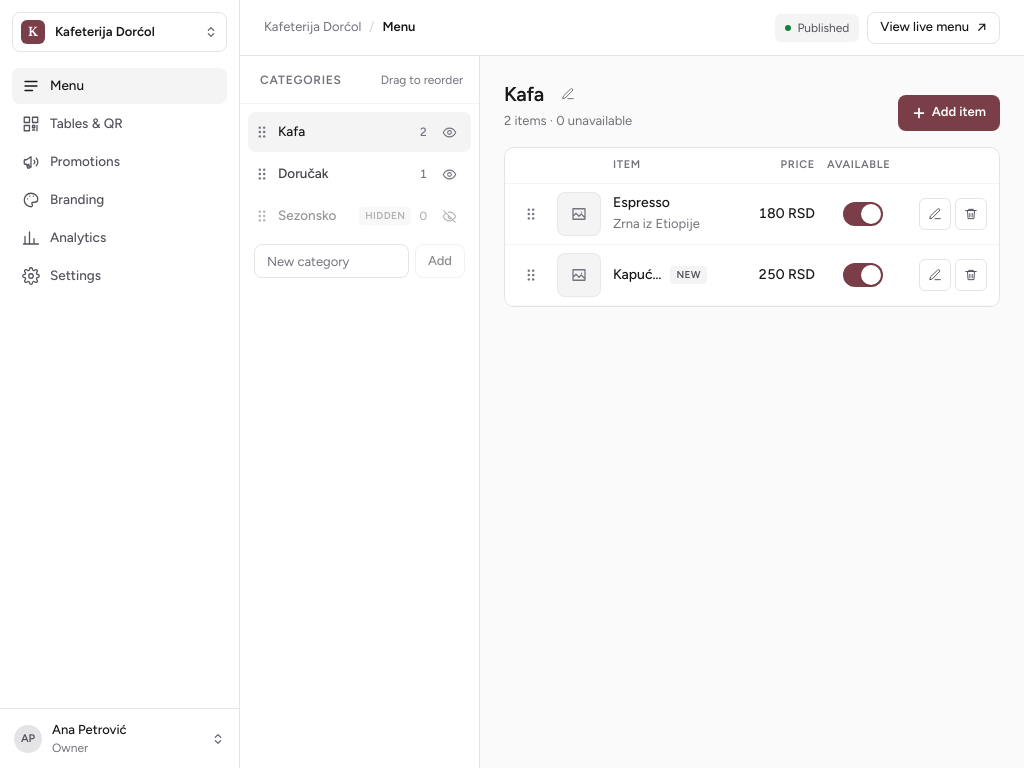
Scenario: adding a venue › lets a Pro owner create one from the switcher and opens its empty menu
expect the heading "Kafa" is shown: met, box [504,82,544,106]
Click the button "K Kafeterija Dorćol".
click(120, 32)  # box [12,12,227,52]
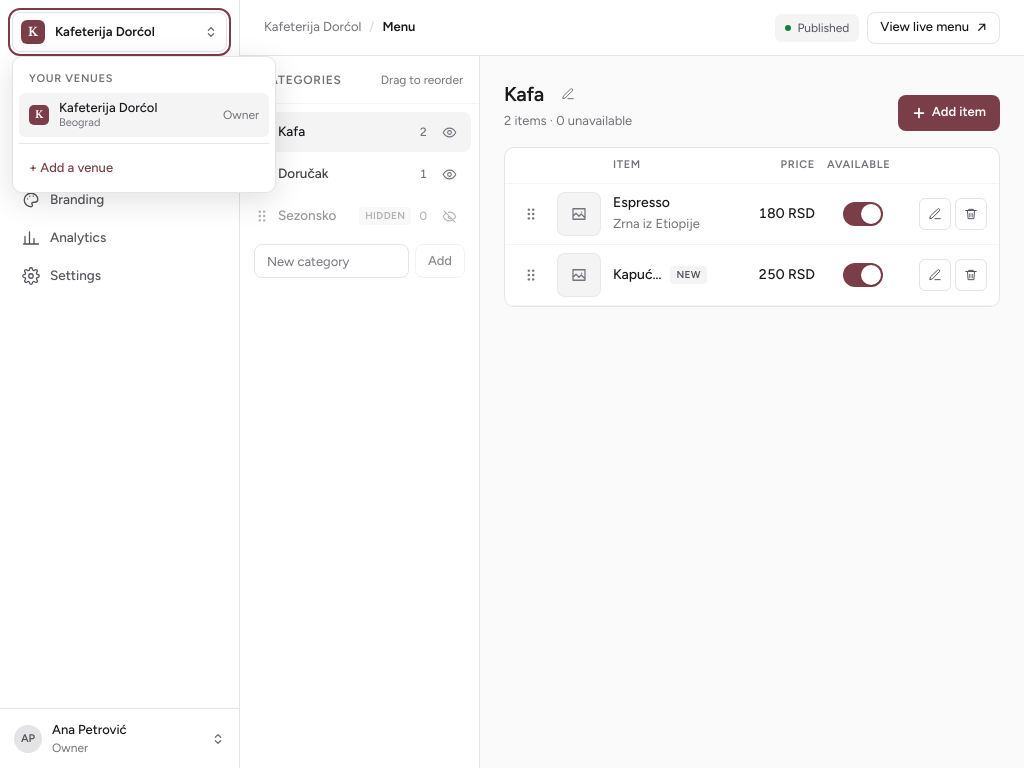
expect the text "Beograd" is shown: met, box [59,116,100,129]
Click the menu item "+ Add a venue".
click(144, 168)  # box [19,150,269,186]
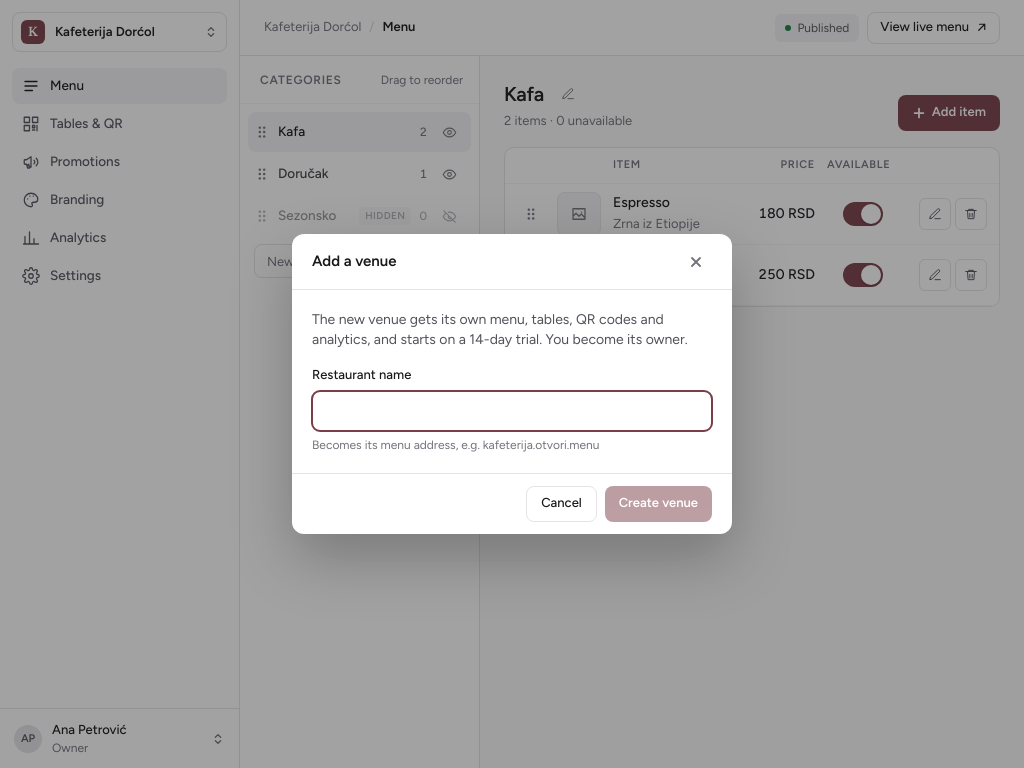
Type "Bistro Zemun" into the field labelled "Restaurant name".
click(512, 411); type("Bistro Zemun")  # box [312,391,712,431]
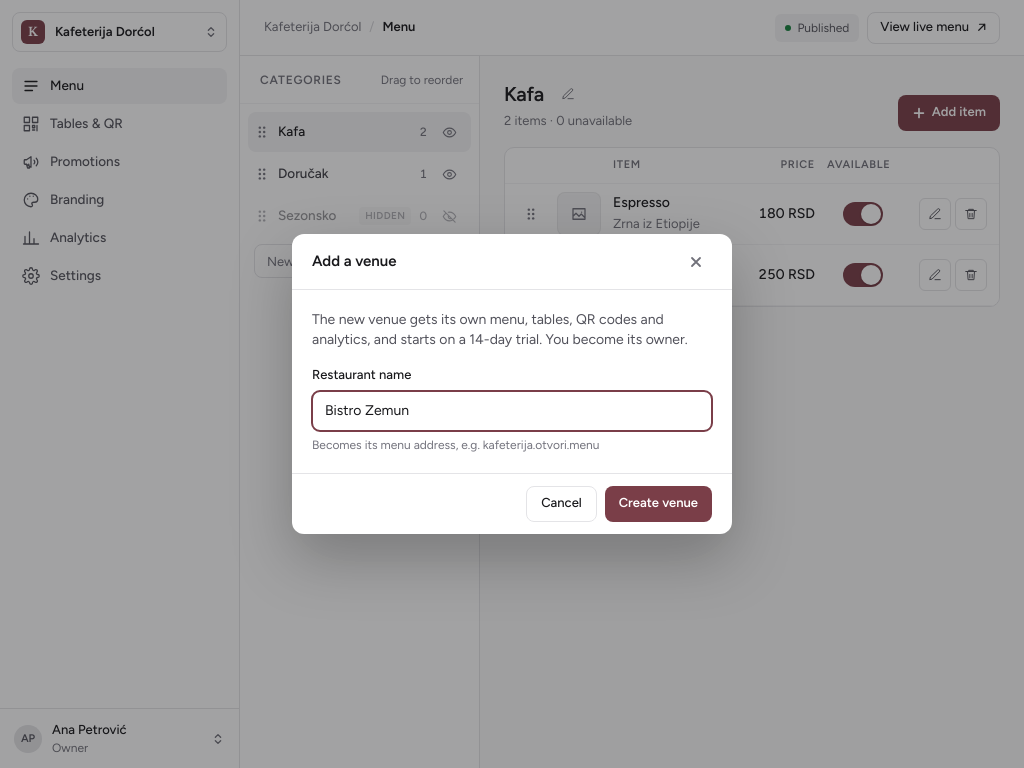
Click the button "Create venue".
click(658, 504)  # box [605,486,712,522]
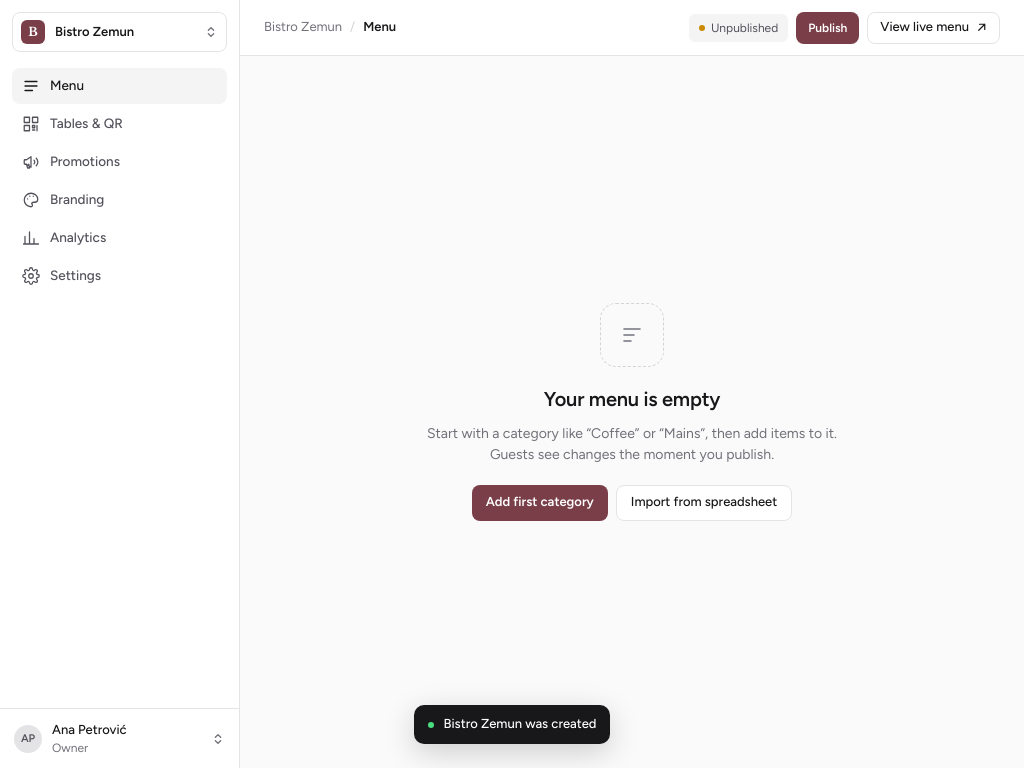
expect the button "B Bistro Zemun" is shown: met, box [12,12,227,52]
